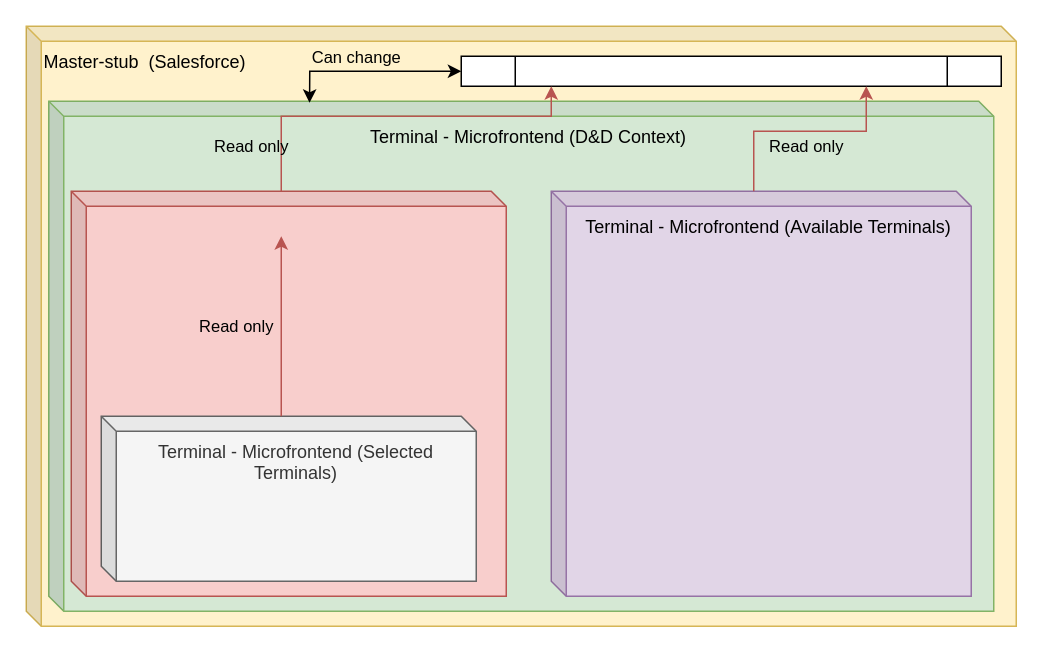
The diagram is 1043 pixels wide and 653 high, and some of its shapes have lost their labels. The shapes that lost their labels are listed below. From the top down, each one's box as (x1, y1, x2, y2) in pixels, then its label:
(460, 55, 1001, 86): selectedTerminals, availableTerminals
(70, 190, 506, 596): Outlet - Microfrontend
